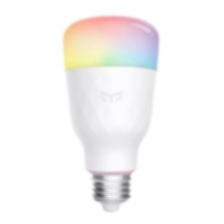light_bulb: (59, 13, 168, 216)
